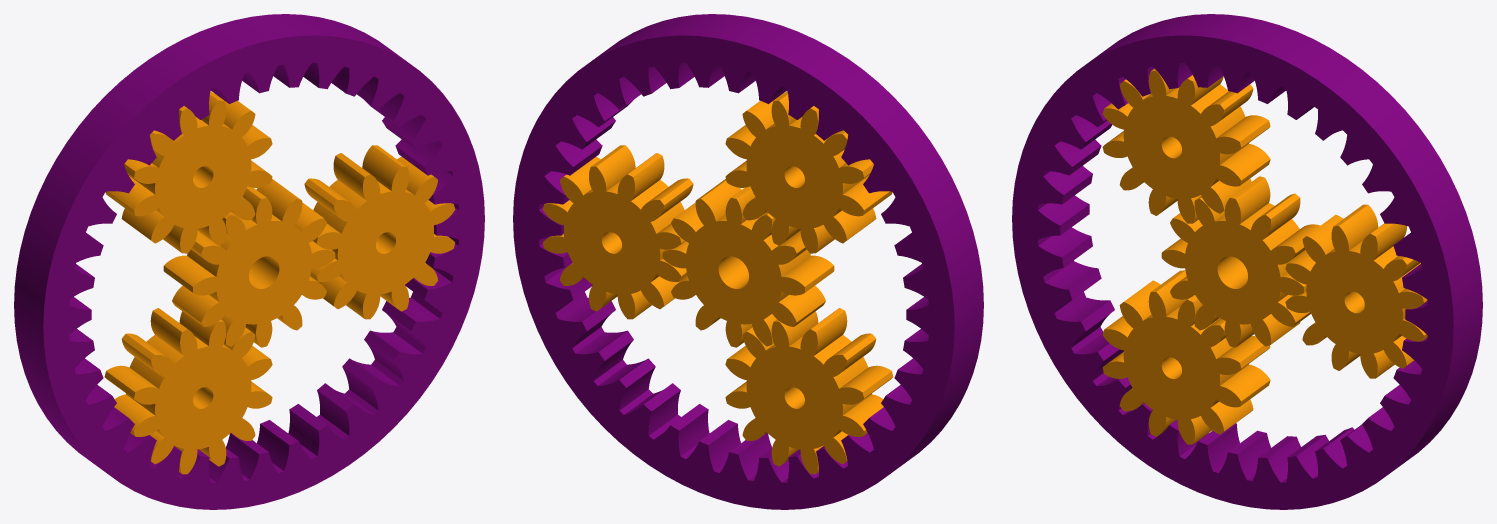
File: assembly.glb
3 renders of one model, left to right at view 1: azimuth 30°, elevation 25°; view 2: azimuth 150°, elevation 25°; view 3: azimuth 330°, elevation 25°, orthographic.
Visible parts, largest first — view 1: ring/ring-gear-m2-z36/body, planet-3/spur-gear-m2-z12/body, planet-1/spur-gear-m2-z12/body, sun/spur-gear-m2-z12/body, planet-2/spur-gear-m2-z12/body; view 2: ring/ring-gear-m2-z36/body, planet-3/spur-gear-m2-z12/body, planet-1/spur-gear-m2-z12/body, sun/spur-gear-m2-z12/body, planet-2/spur-gear-m2-z12/body; view 3: ring/ring-gear-m2-z36/body, planet-3/spur-gear-m2-z12/body, planet-2/spur-gear-m2-z12/body, sun/spur-gear-m2-z12/body, planet-1/spur-gear-m2-z12/body.
Boxes of the visible parts, x1=… form: ring/ring-gear-m2-z36/body: x1=14, y1=14, x2=484, y2=509; planet-3/spur-gear-m2-z12/body: x1=104, y1=308, x2=272, y2=474; planet-1/spur-gear-m2-z12/body: x1=304, y1=145, x2=455, y2=319; sun/spur-gear-m2-z12/body: x1=163, y1=179, x2=335, y2=347; planet-2/spur-gear-m2-z12/body: x1=105, y1=91, x2=272, y2=253; ring/ring-gear-m2-z36/body: x1=513, y1=14, x2=983, y2=509; planet-3/spur-gear-m2-z12/body: x1=725, y1=308, x2=893, y2=474; planet-1/spur-gear-m2-z12/body: x1=542, y1=145, x2=693, y2=319; sun/spur-gear-m2-z12/body: x1=662, y1=179, x2=834, y2=347; planet-2/spur-gear-m2-z12/body: x1=725, y1=91, x2=892, y2=253; ring/ring-gear-m2-z36/body: x1=1012, y1=14, x2=1482, y2=509; planet-3/spur-gear-m2-z12/body: x1=1102, y1=270, x2=1270, y2=444; planet-2/spur-gear-m2-z12/body: x1=1102, y1=68, x2=1270, y2=223; sun/spur-gear-m2-z12/body: x1=1161, y1=176, x2=1320, y2=347; planet-1/spur-gear-m2-z12/body: x1=1285, y1=204, x2=1427, y2=378.
Bounding box in the file's own units: 0.087 × 0.087 × 0.01.
